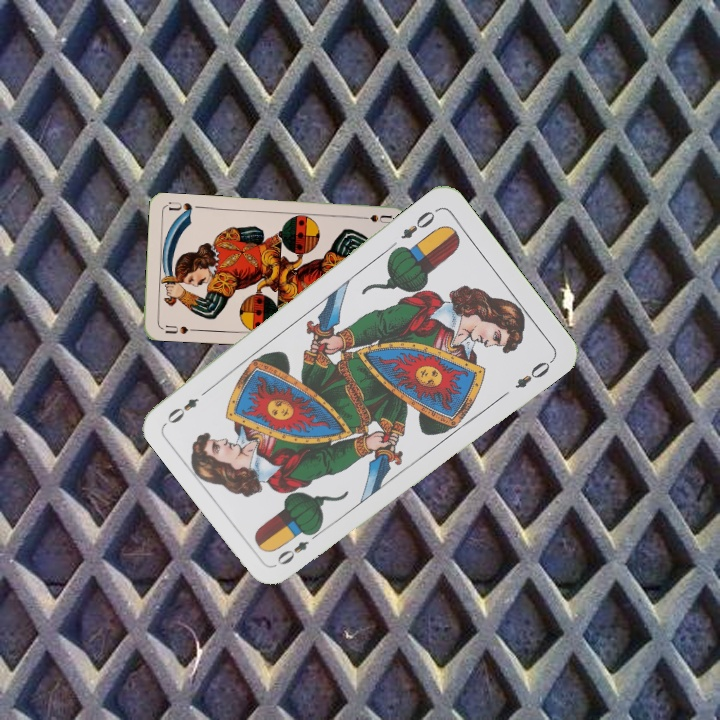EO: (273, 527, 323, 568), (396, 207, 438, 242)
SU: (352, 210, 393, 226), (157, 321, 198, 336)
